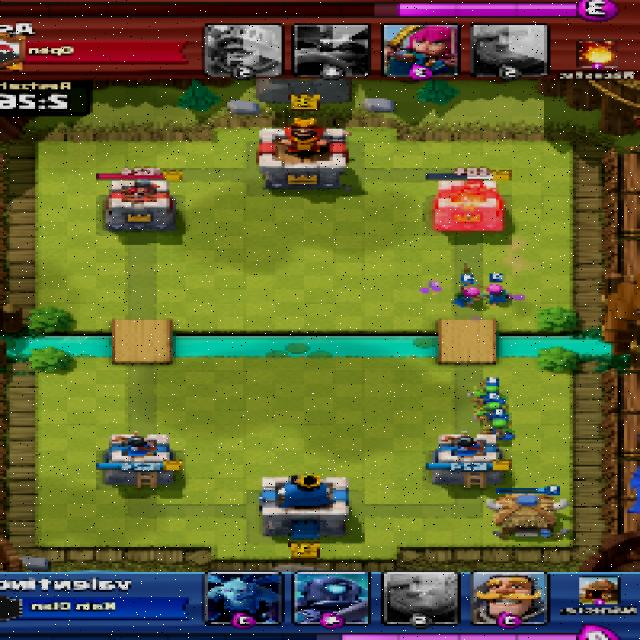Enemy-Archer: (451, 284, 482, 306), (485, 285, 514, 305)
Player-GoblinHut: (484, 494, 570, 541)
Player-SpearGoblin: (472, 381, 505, 399), (477, 402, 510, 420), (486, 421, 514, 436)
